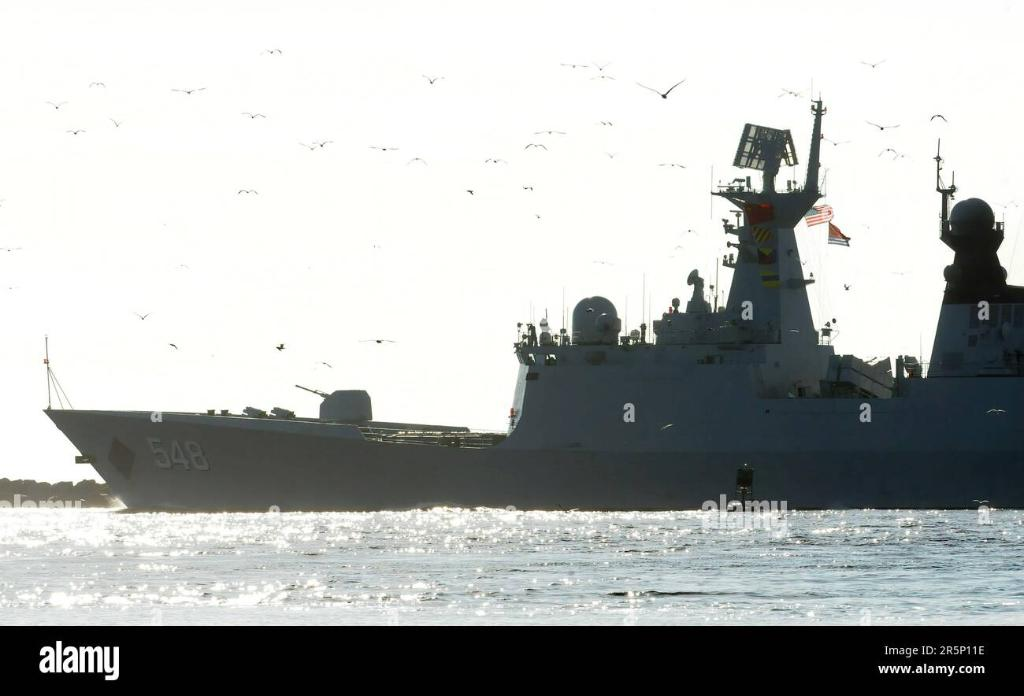Warship: (24, 84, 1024, 532)
